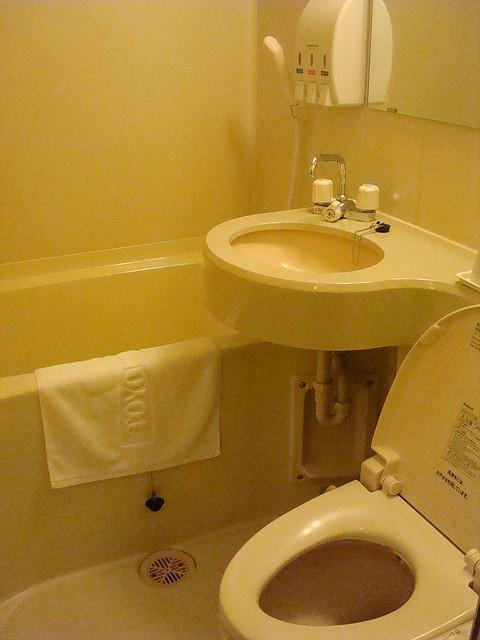Lavamanos: (206, 141, 471, 363)
Sanitario: (219, 294, 478, 638)
